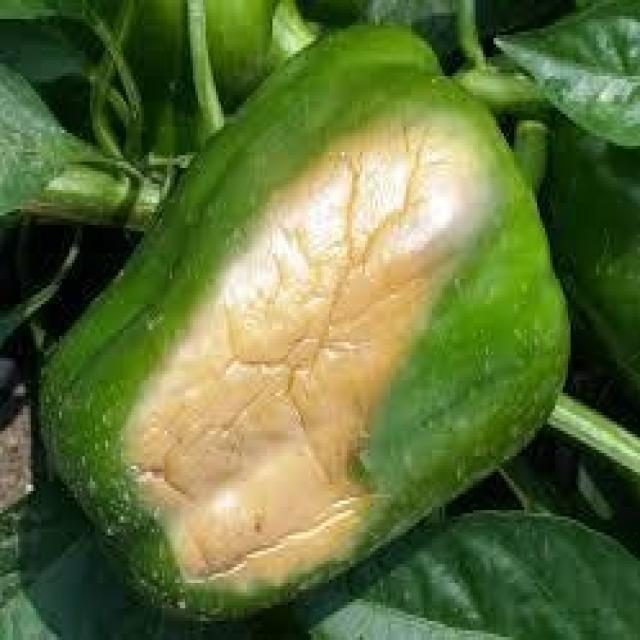Wet Waste: (5, 3, 583, 626)
